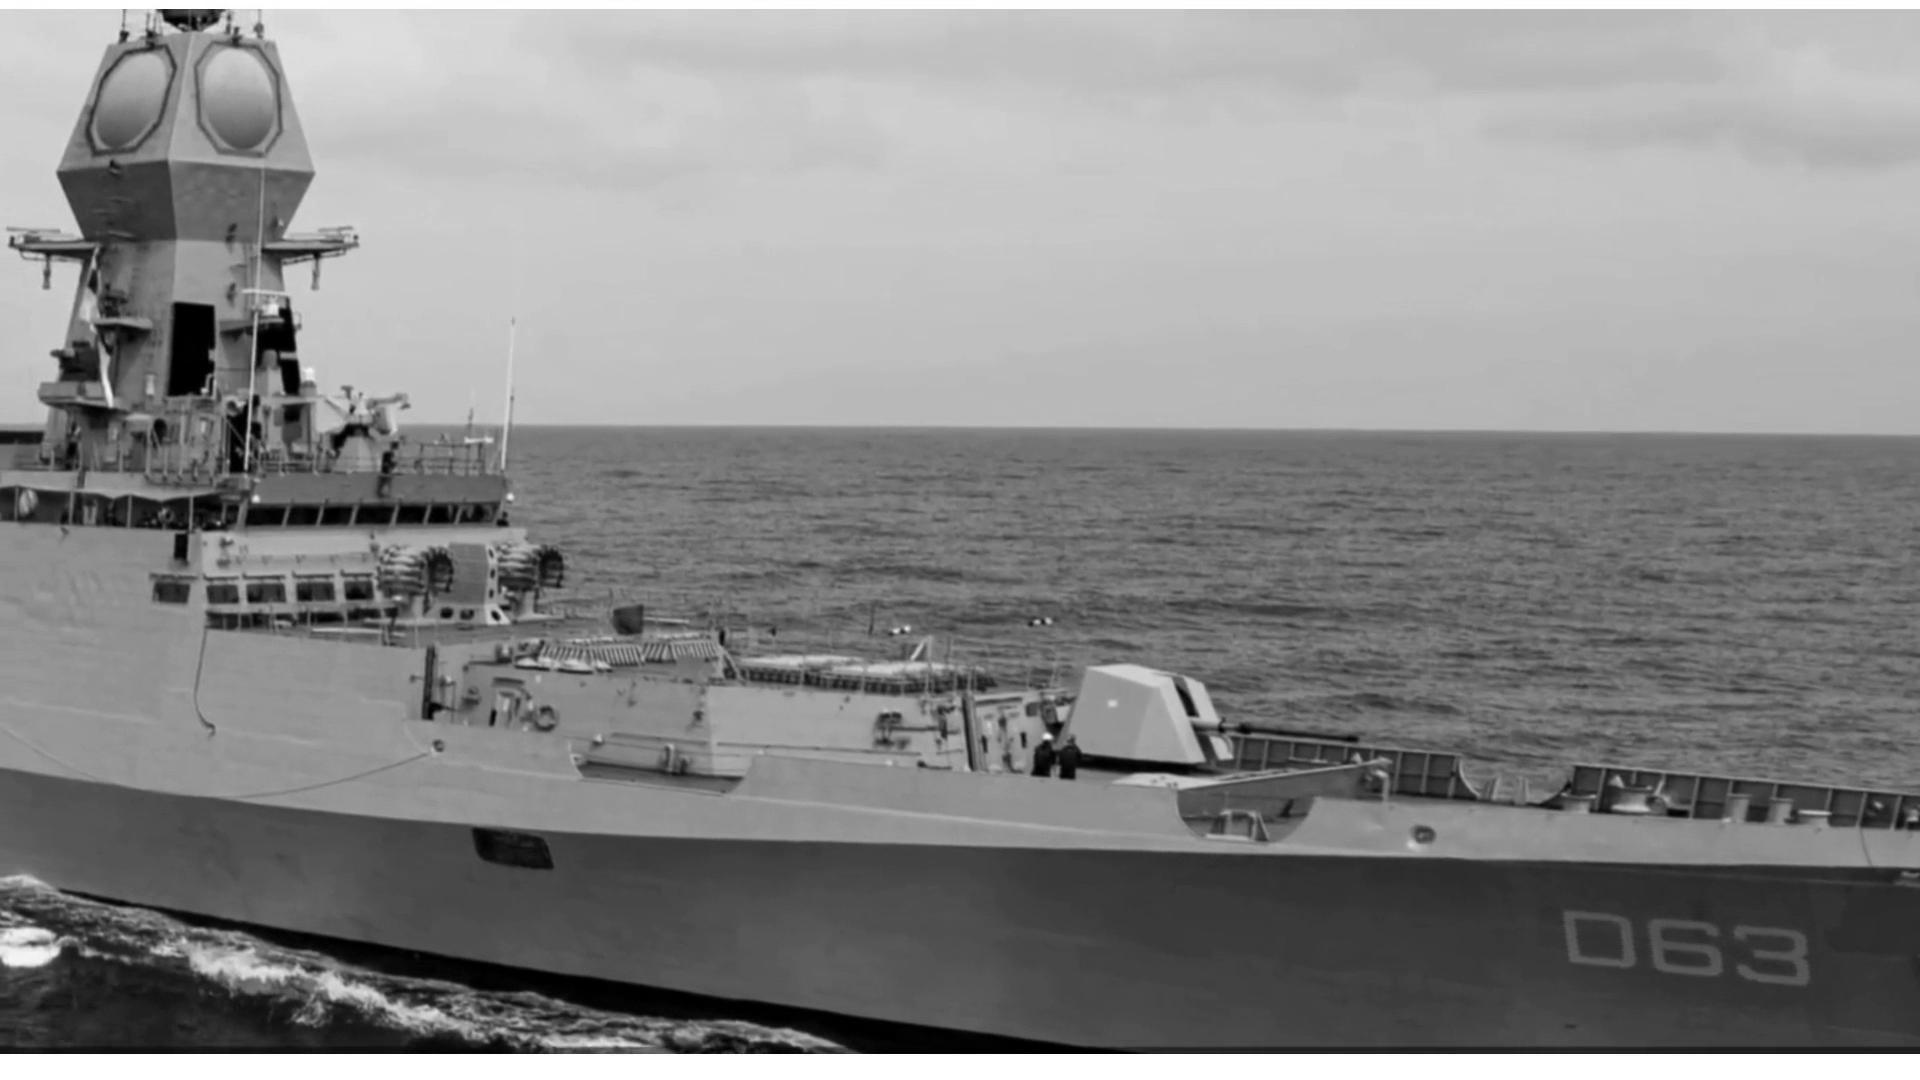OCR: (1540, 894, 1818, 999)
